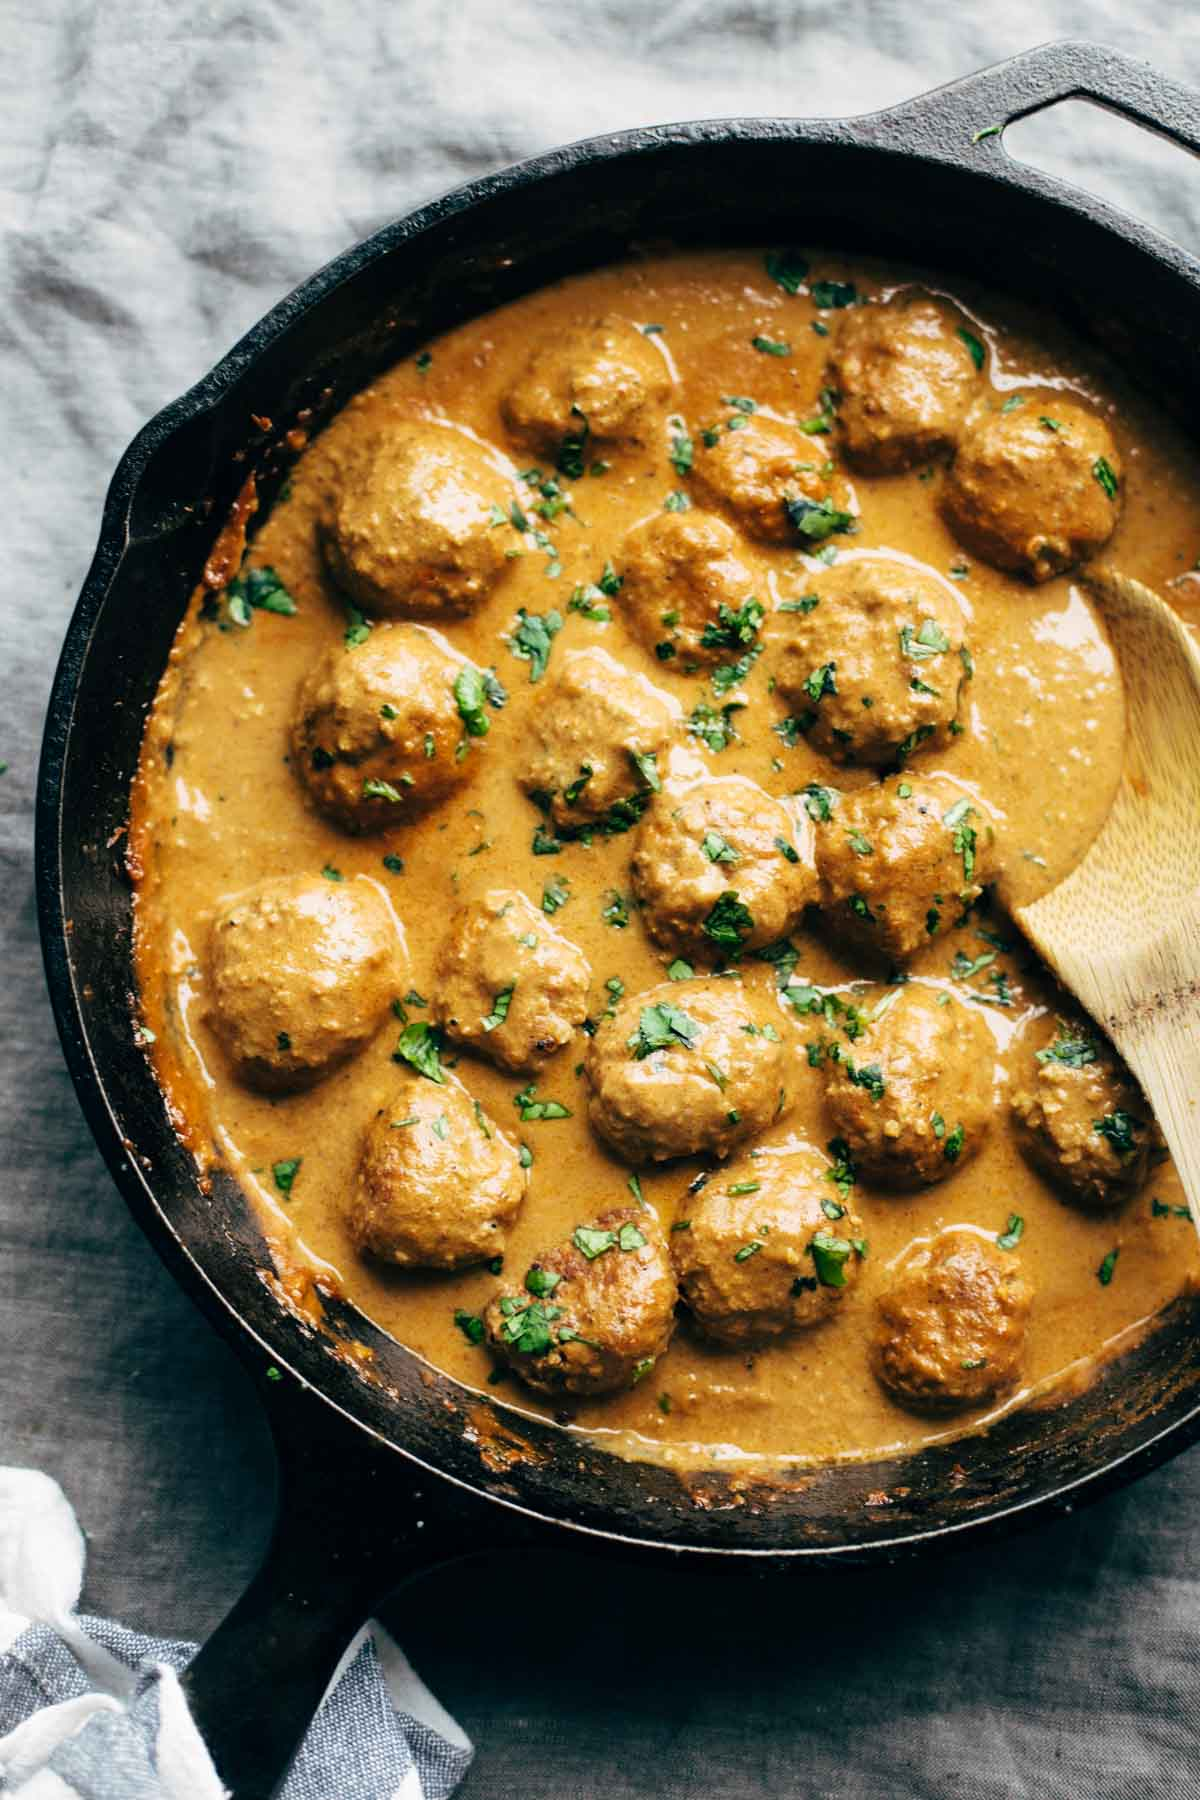meatballs: (287, 625, 487, 817), (311, 417, 513, 607), (591, 970, 787, 1157), (209, 876, 400, 1063), (422, 869, 576, 1096), (779, 546, 939, 750), (804, 771, 986, 948), (688, 1158, 850, 1351), (841, 980, 992, 1179), (897, 1232, 1047, 1430), (516, 1207, 676, 1392), (351, 1087, 513, 1263), (1026, 1000, 1164, 1199), (947, 388, 1118, 548), (516, 658, 670, 834), (647, 773, 793, 954), (497, 309, 664, 465), (832, 296, 978, 473), (692, 421, 850, 546), (637, 534, 755, 655)
